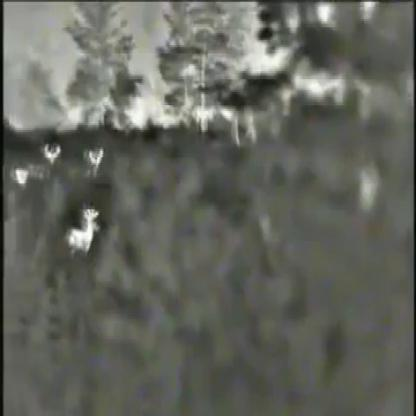rehkitze: (69, 208, 97, 255), (86, 148, 104, 179), (41, 143, 61, 167)
